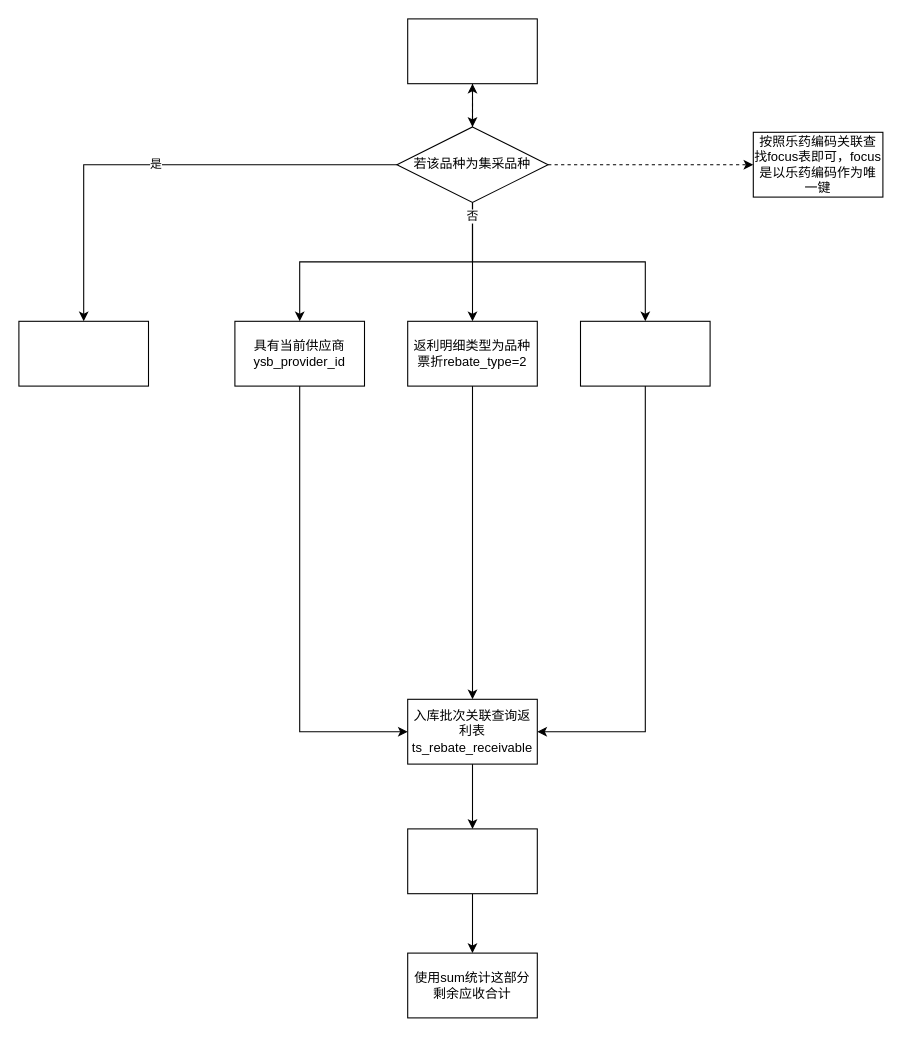
The diagram is 902 pixels wide and 1037 high, and some of its shapes have lost their labels. Each missing label, with the centre of its shape:
"入库批次记录具有入库单号/退库单号in_warehouse_no" belongs at point 644,353.
"某一个入库批次的返利金额" belongs at point 472,51.
"查询出多条返利记录" belongs at point 472,861.
